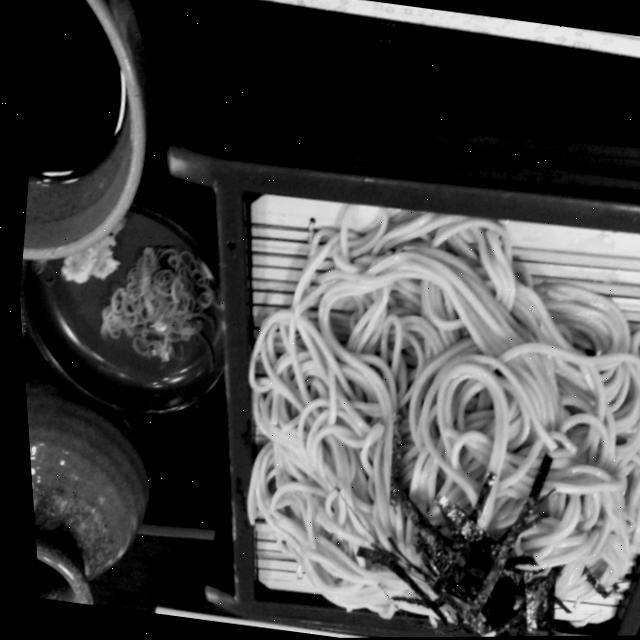面条主食: (89, 92, 640, 640)
